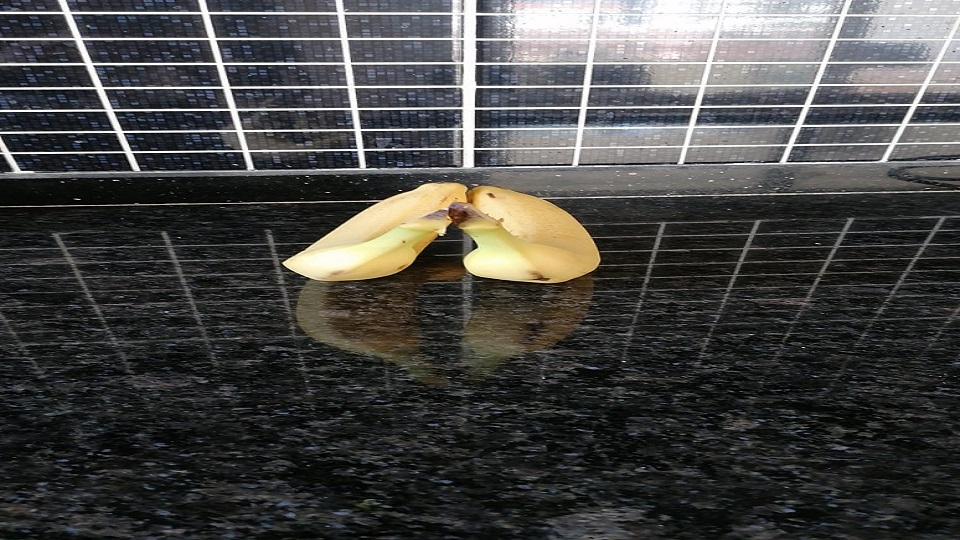muz: (282, 179, 459, 284), (463, 185, 602, 286)
